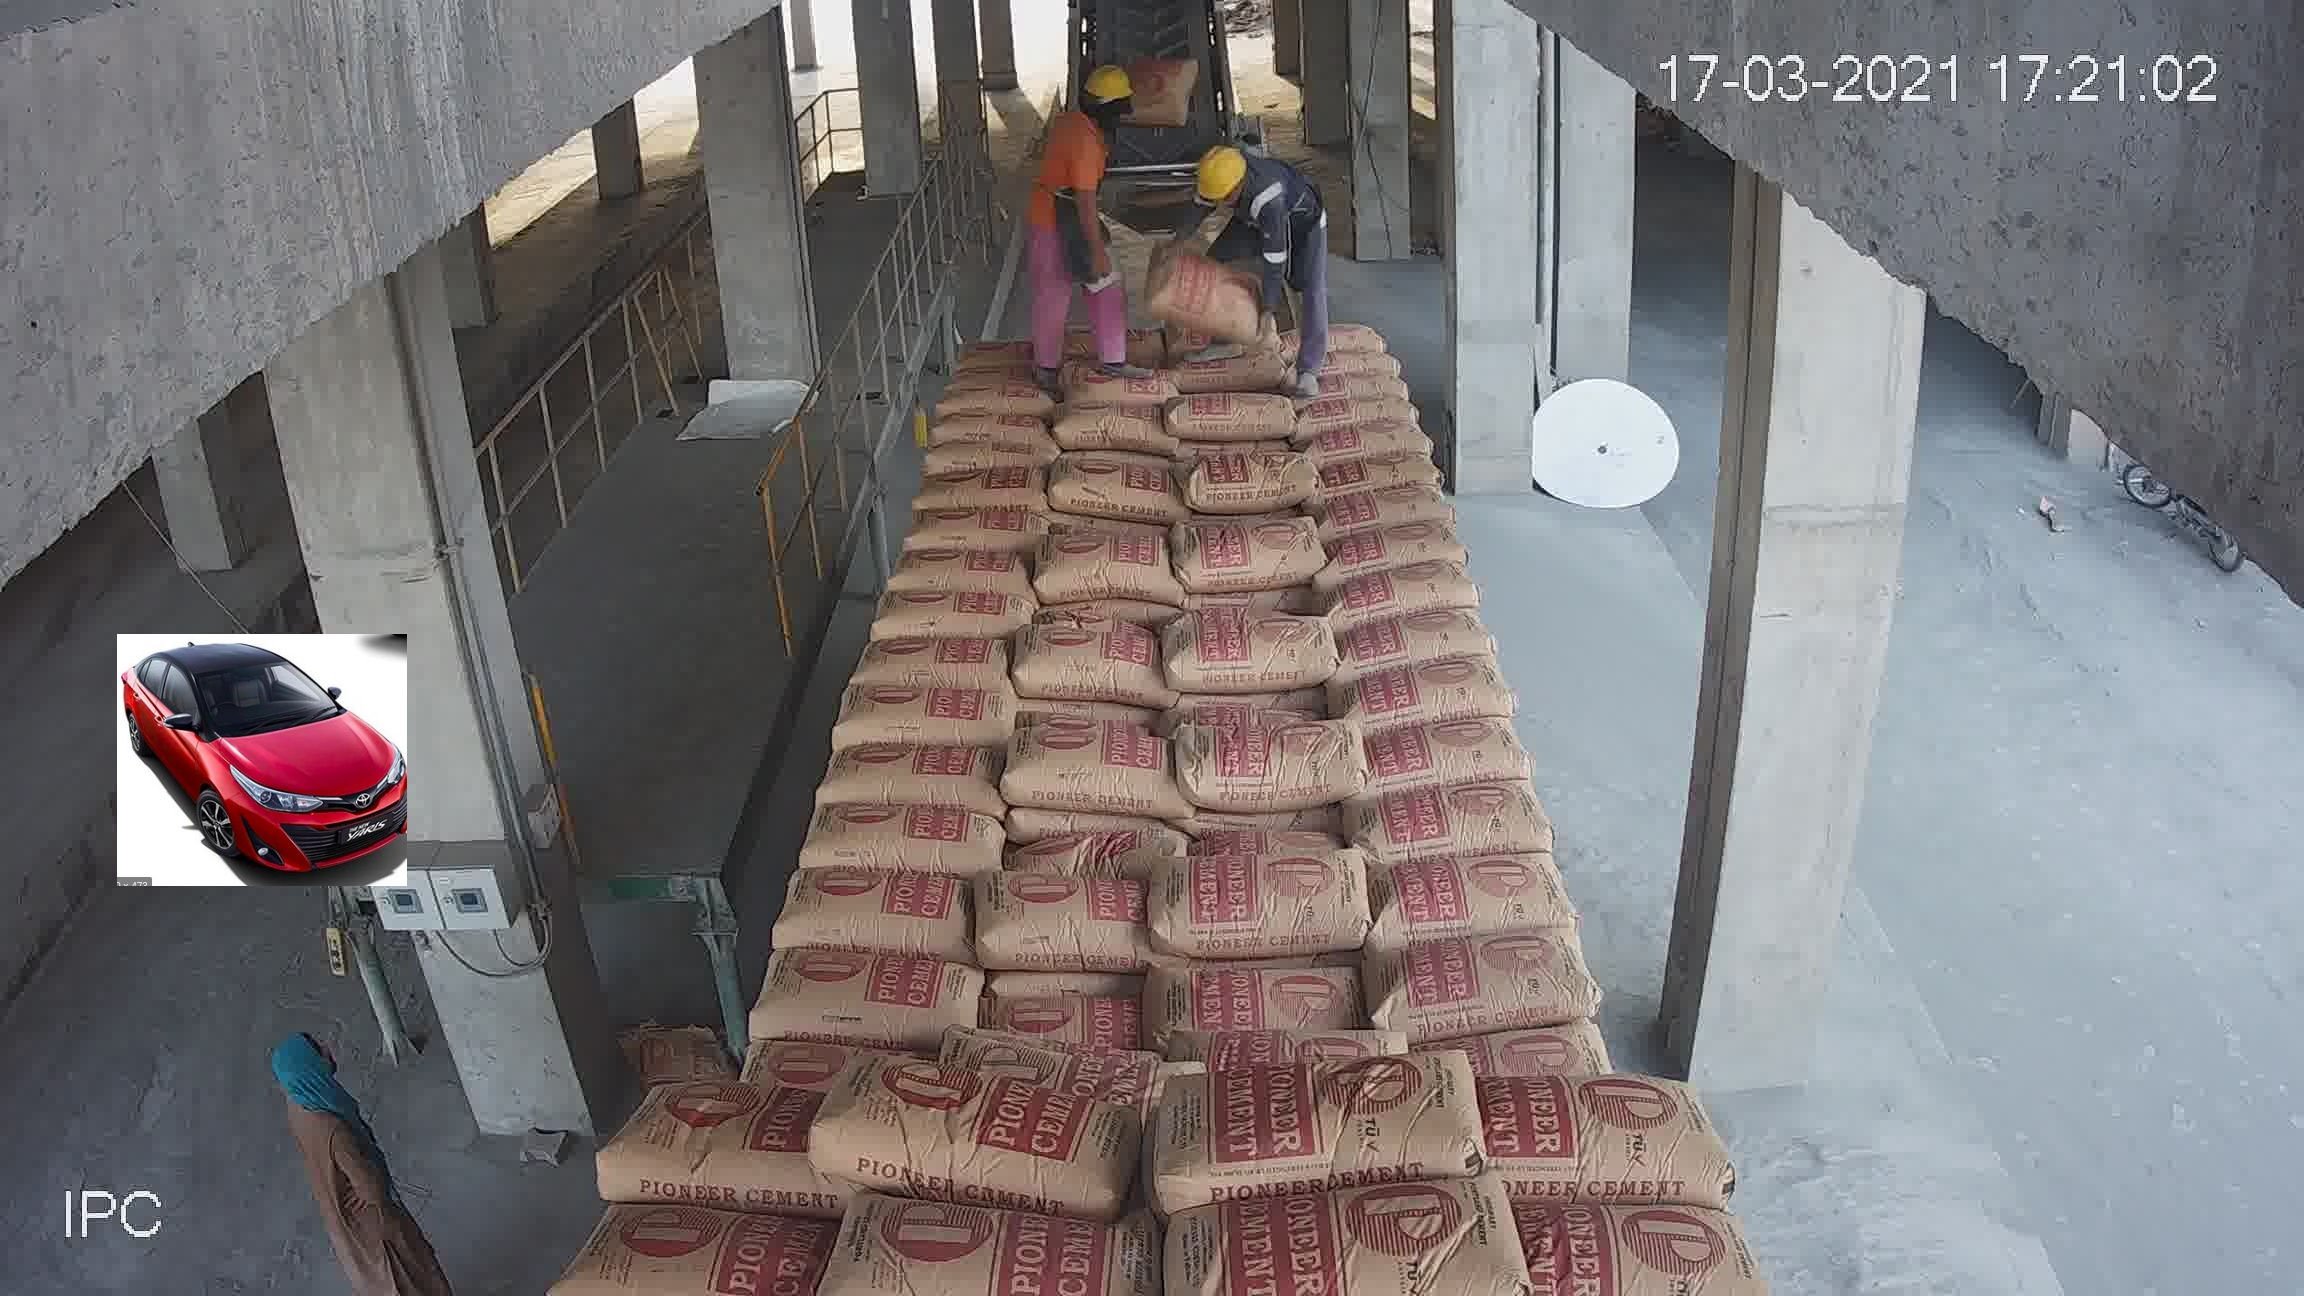bag_h: (1154, 1025, 1497, 1226), (1160, 1166, 1554, 1296), (1404, 940, 1703, 1092), (820, 1071, 1154, 1204), (1141, 929, 1434, 1079), (1139, 836, 1438, 957), (873, 949, 1143, 1081), (1464, 1082, 1755, 1201), (1130, 720, 1385, 851), (1418, 843, 1649, 978), (1514, 1185, 1782, 1296), (878, 851, 1157, 948), (851, 1196, 1157, 1283), (896, 750, 1149, 855), (1385, 745, 1601, 850), (1173, 668, 1358, 745), (1423, 707, 1518, 772), (1347, 411, 1427, 460), (1100, 574, 1169, 623), (1337, 388, 1423, 426)
belt: (994, 5, 1315, 524), (614, 945, 881, 1074), (557, 1214, 858, 1293), (579, 1106, 817, 1206), (714, 772, 911, 880), (696, 853, 878, 959), (824, 682, 983, 747), (847, 623, 961, 696), (842, 584, 961, 649), (805, 725, 934, 780)
